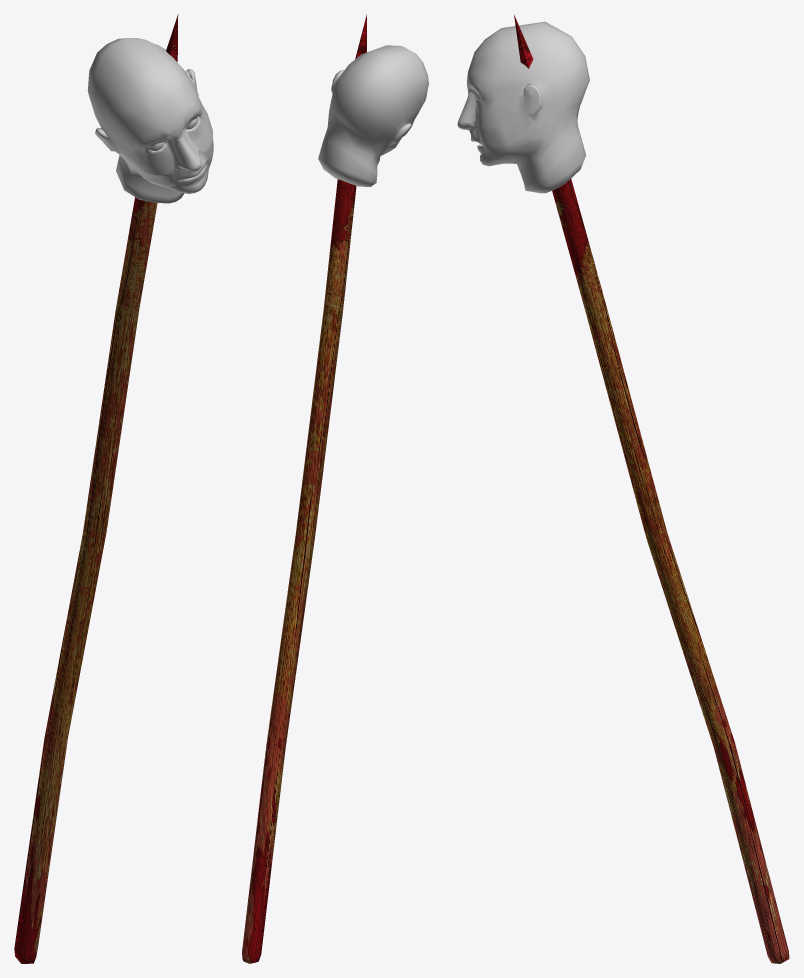
The model's file is severed_exp_03.fbx.
3 views of the same model, side by side, from view 1: azimuth 30°, elevation 25°; view 2: azimuth 150°, elevation 25°; view 3: azimuth 270°, elevation 25° (orthographic). The views are drawn at different scales.
Parts seen in each view (by area): view 1: severed_exp_03; view 2: severed_exp_03; view 3: severed_exp_03.
Part boxes in pixels (box(x1,y1,x2,y2)): severed_exp_03: box(14, 14, 213, 963); severed_exp_03: box(242, 14, 428, 963); severed_exp_03: box(457, 14, 789, 963).
Bounding box in the file's own units: 0.2252 × 2.18 × 0.6884.
